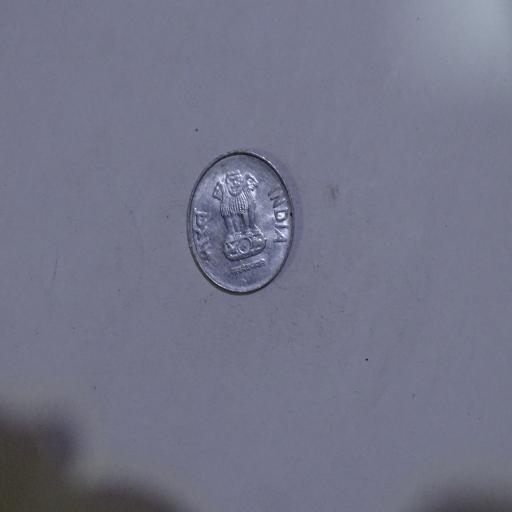rupee2: (185, 149, 295, 294)
